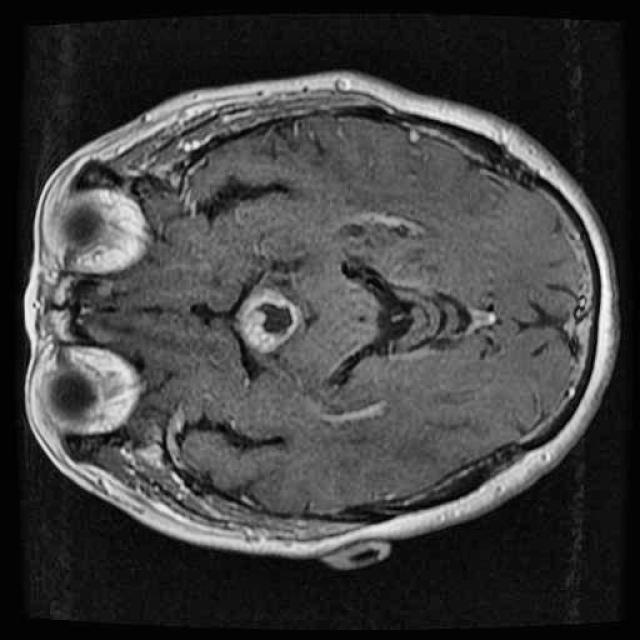Tumor: (234, 281, 305, 359)
